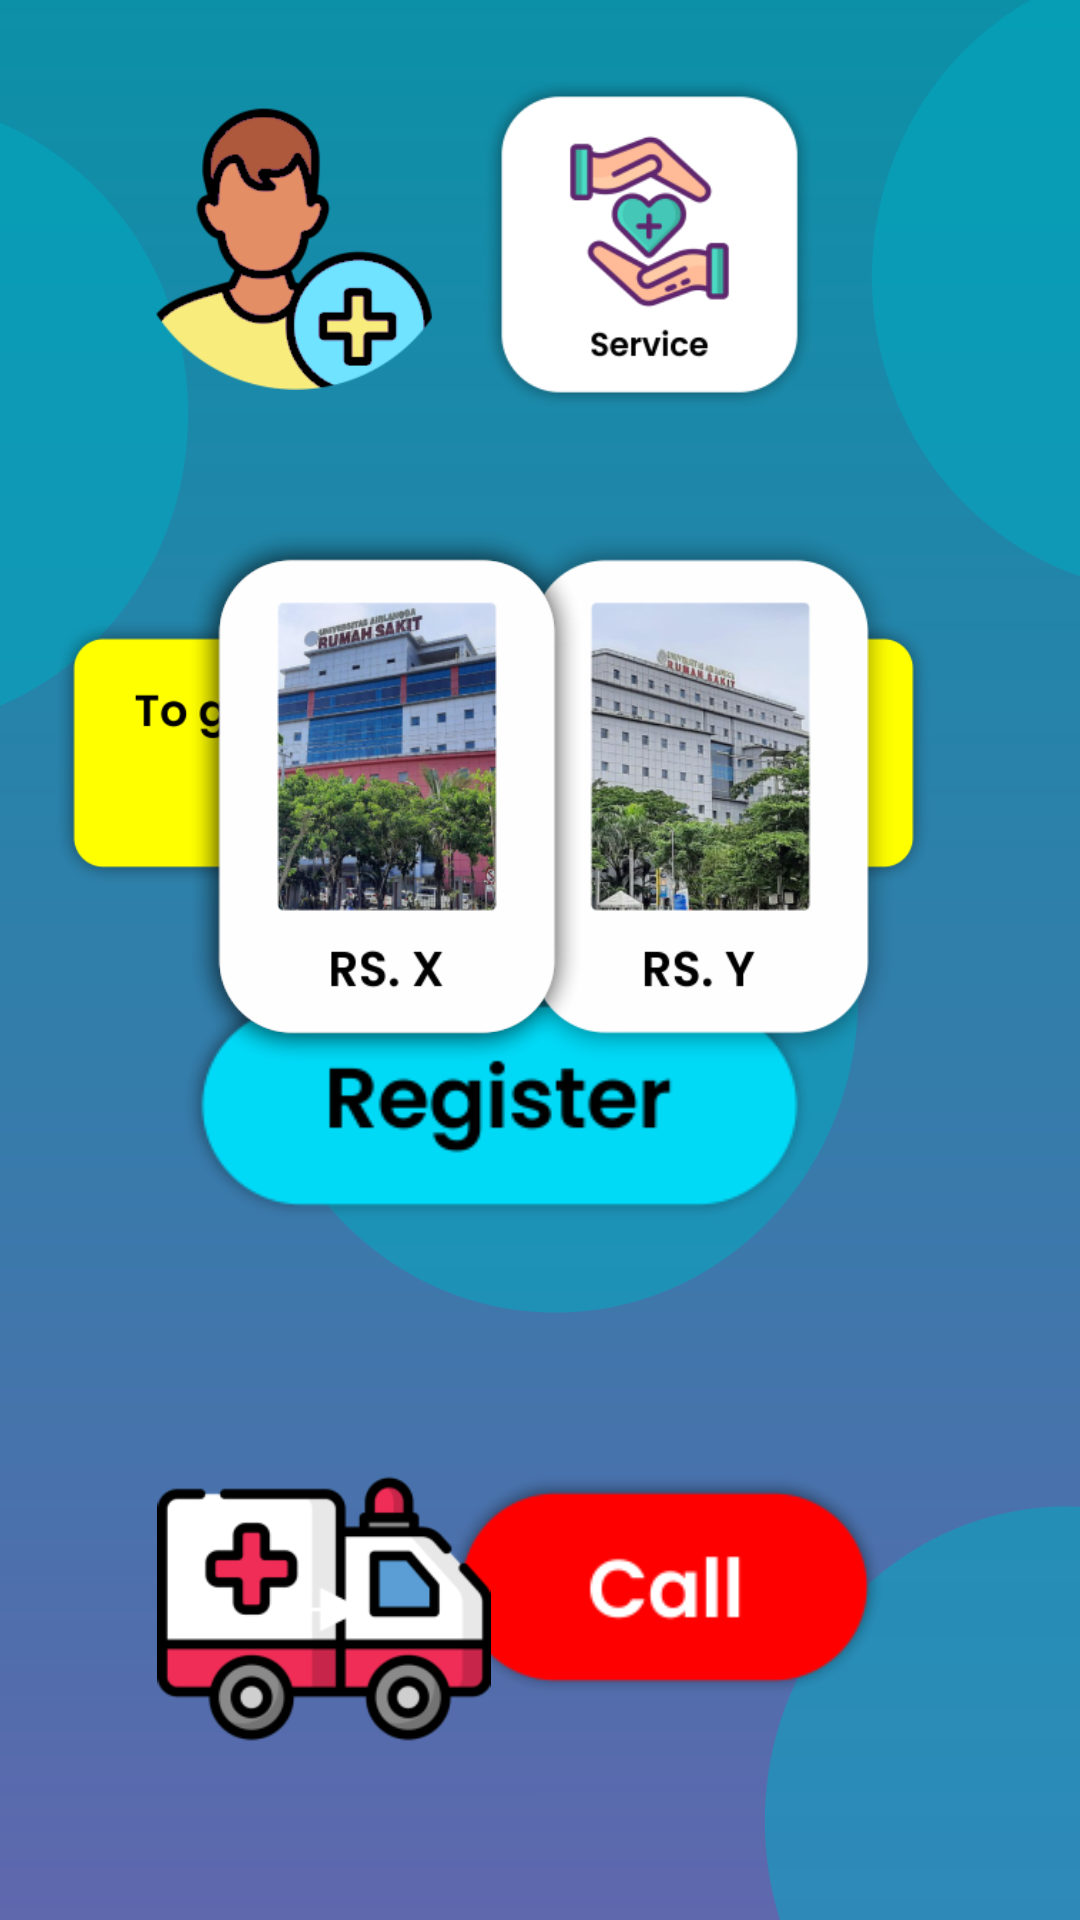

Icon click points for this 1080x1920 phone screenshot, format (x=x, y=y):
avt pasien: (x=294, y=249)
